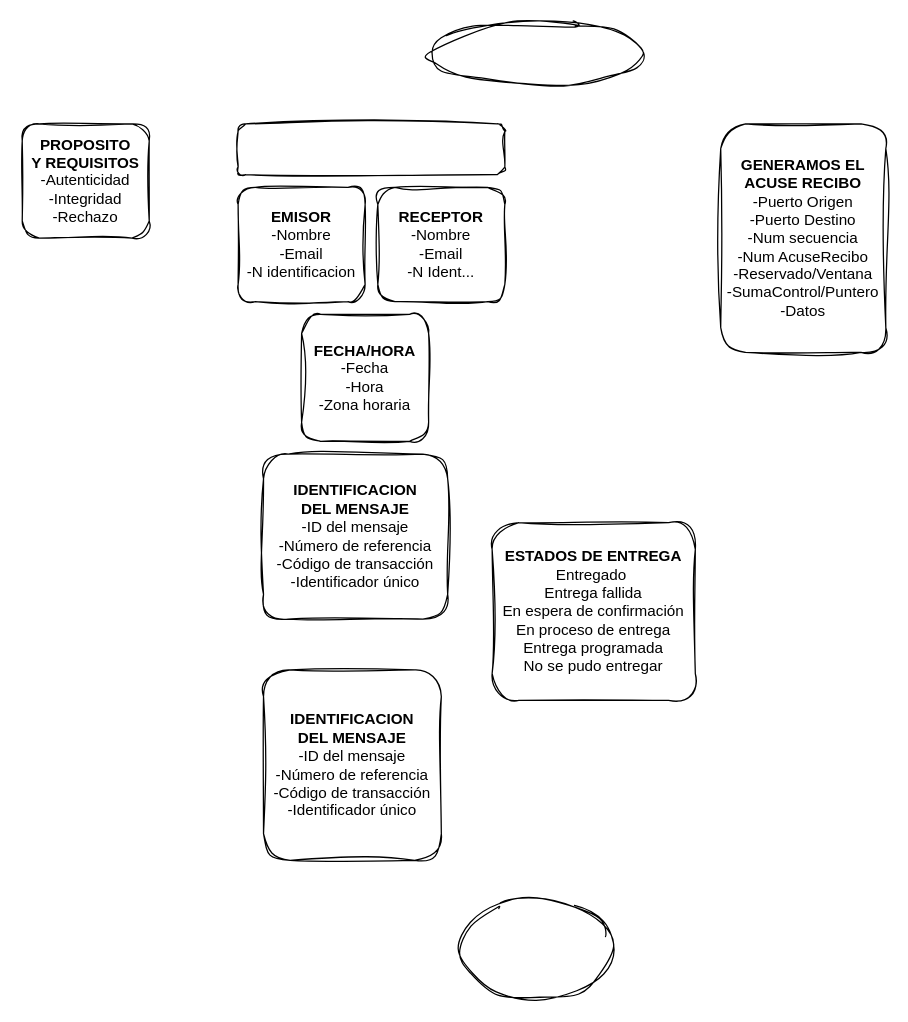
The diagram is 908 pixels wide and 1022 high, and some of its shapes have lost their labels. The shapes that lost their labels are listed below. From the top down, each one's box as (x1, y1, x2, y2) in pixels, then its label:
(427, 21, 645, 86): ACUSE DE RECIBO
(237, 123, 505, 175): DISEÑO DEL FORMATO
(459, 897, 613, 1000): FIN
